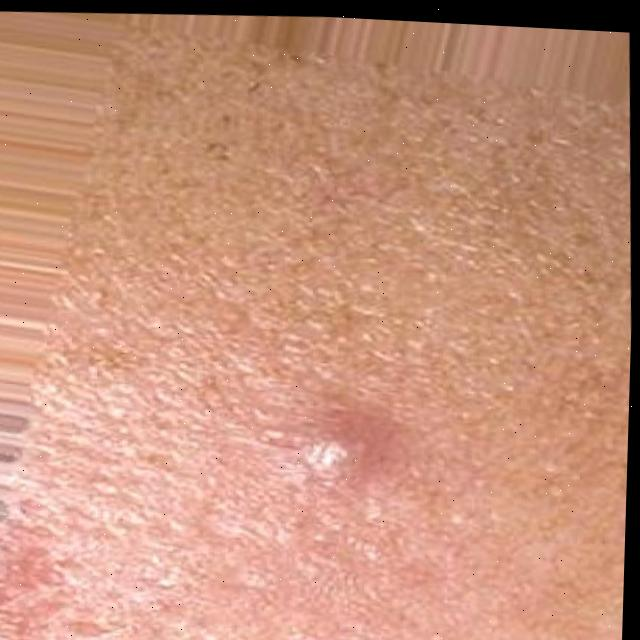Rosacea: (179, 384, 484, 634)
